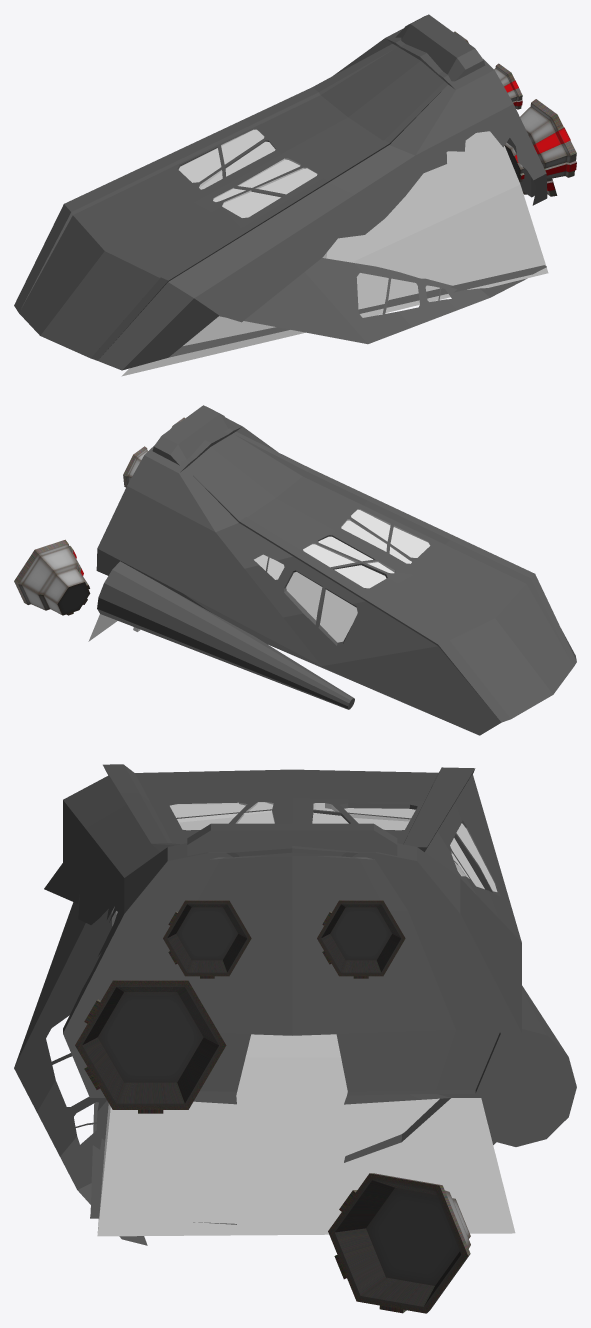
The model's file is nave.fbx.
3 views of the same model, one above another, from view 1: azimuth 30°, elevation 25°; view 2: azimuth 150°, elevation 25°; view 3: azimuth 270°, elevation 25° (orthographic). The views are drawn at different scales.
Parts seen in each view (by area): view 1: spaceship, ESCUDO, spaceship_debris1, turbina_2, spaceship_aleron, turbina_3; view 2: spaceship, Cylinder.004, turbina_1, spaceship_aleron; view 3: spaceship, ESCUDO, turbina_2, turbina_1, spaceship_debris1, Cylinder.004, spaceship_aleron, turbina_4, turbina_3.
Boxes of the visible parts, <box> form: spaceship: <box>14,28,547,370</box>; ESCUDO: <box>121,131,548,376</box>; spaceship_debris1: <box>219,258,527,344</box>; turbina_2: <box>504,99,576,181</box>; spaceship_aleron: <box>395,14,485,81</box>; turbina_3: <box>494,63,522,109</box>; spaceship: <box>96,418,576,735</box>; Cylinder.004: <box>97,561,354,709</box>; turbina_1: <box>14,539,90,615</box>; spaceship_aleron: <box>152,405,234,465</box>; spaceship: <box>44,764,521,1224</box>; ESCUDO: <box>97,911,515,1236</box>; turbina_2: <box>75,980,226,1113</box>; turbina_1: <box>328,1173,470,1313</box>; spaceship_debris1: <box>14,894,147,1245</box>; Cylinder.004: <box>481,985,576,1146</box>; spaceship_aleron: <box>187,823,397,856</box>; turbina_4: <box>317,900,405,978</box>; turbina_3: <box>163,900,251,978</box>.
Bounding box in the file's own units: 2753 × 1053 × 1390.
